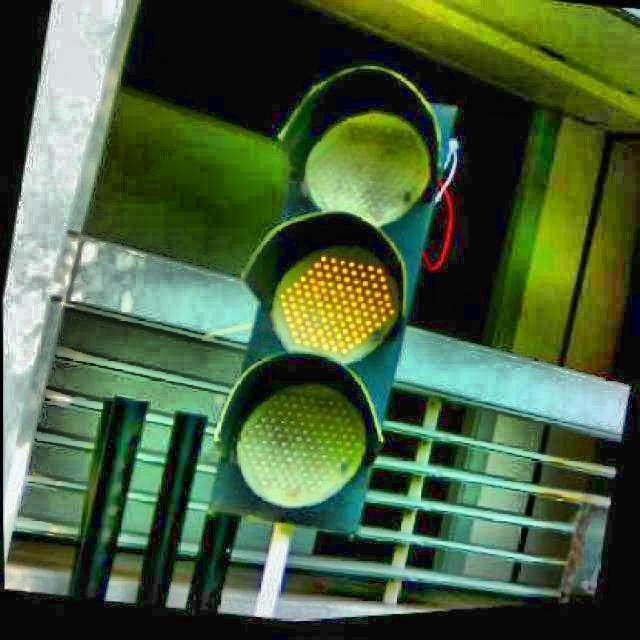yellow: (205, 70, 444, 558)
